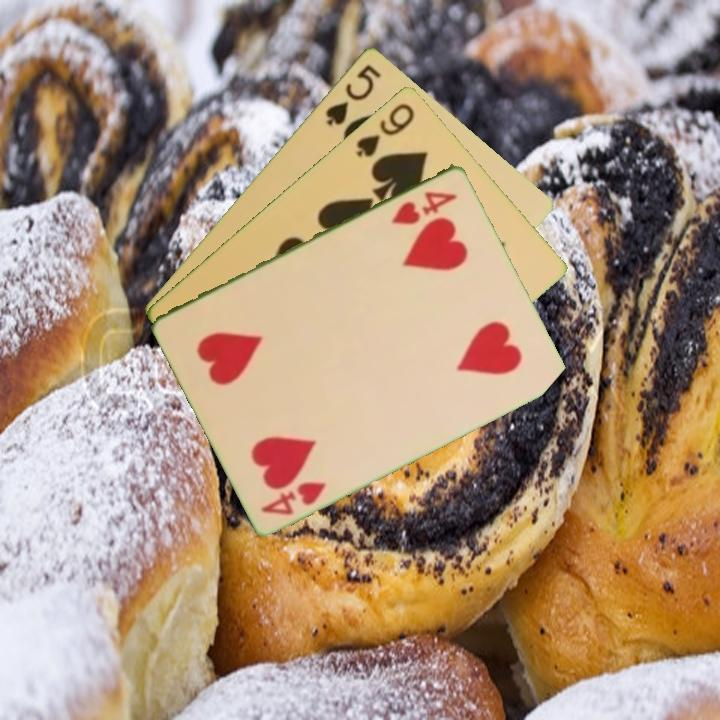4h: (387, 187, 461, 227), (257, 477, 329, 518)
5s: (321, 60, 384, 128)
9s: (352, 99, 418, 160)
